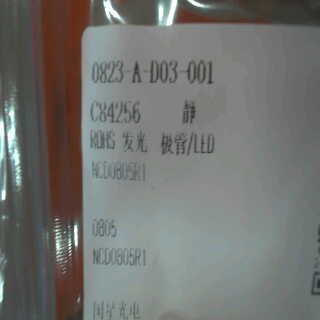LED: (115, 126, 215, 156)
